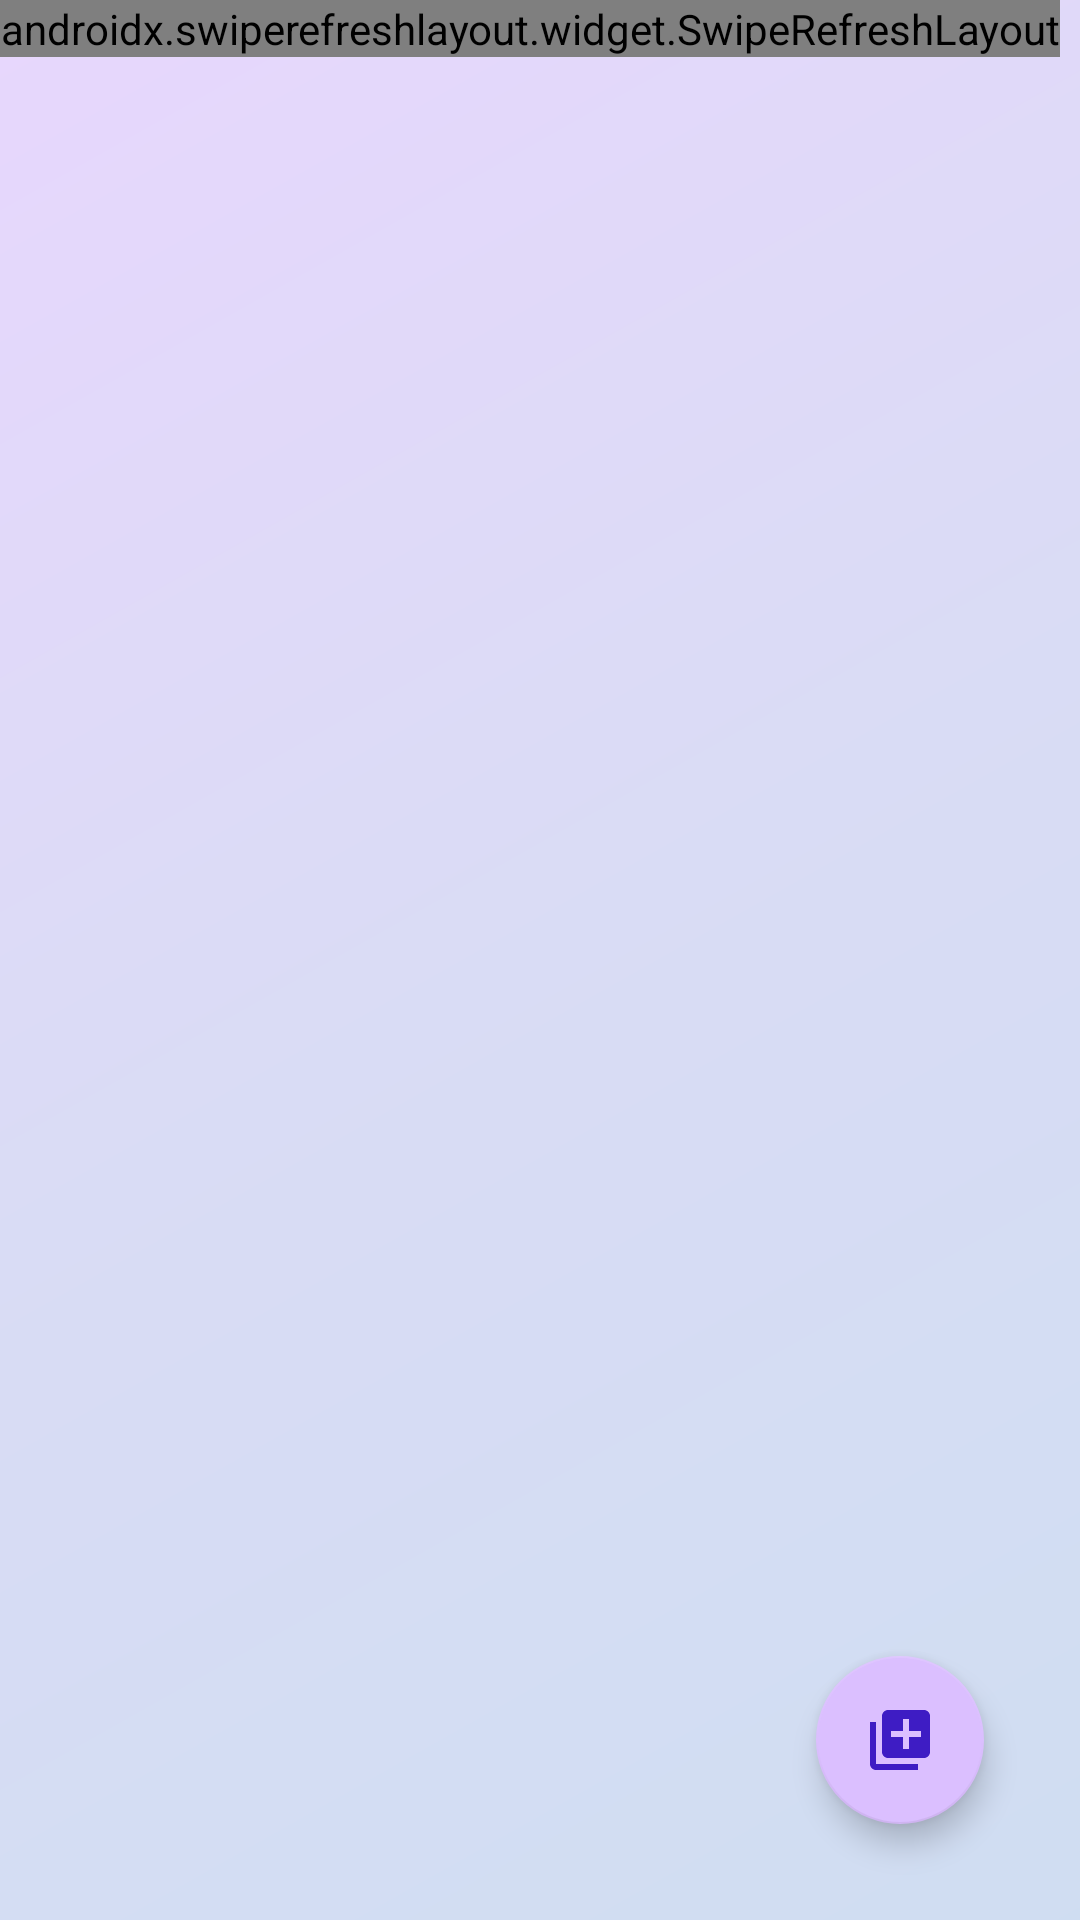

Named icons in this screenshot (1080w x 1920h) and their bounding boxes, (left=x1, top=y1, right=x2, bottom=y2):
add notes: (left=816, top=1658, right=984, bottom=1824)
